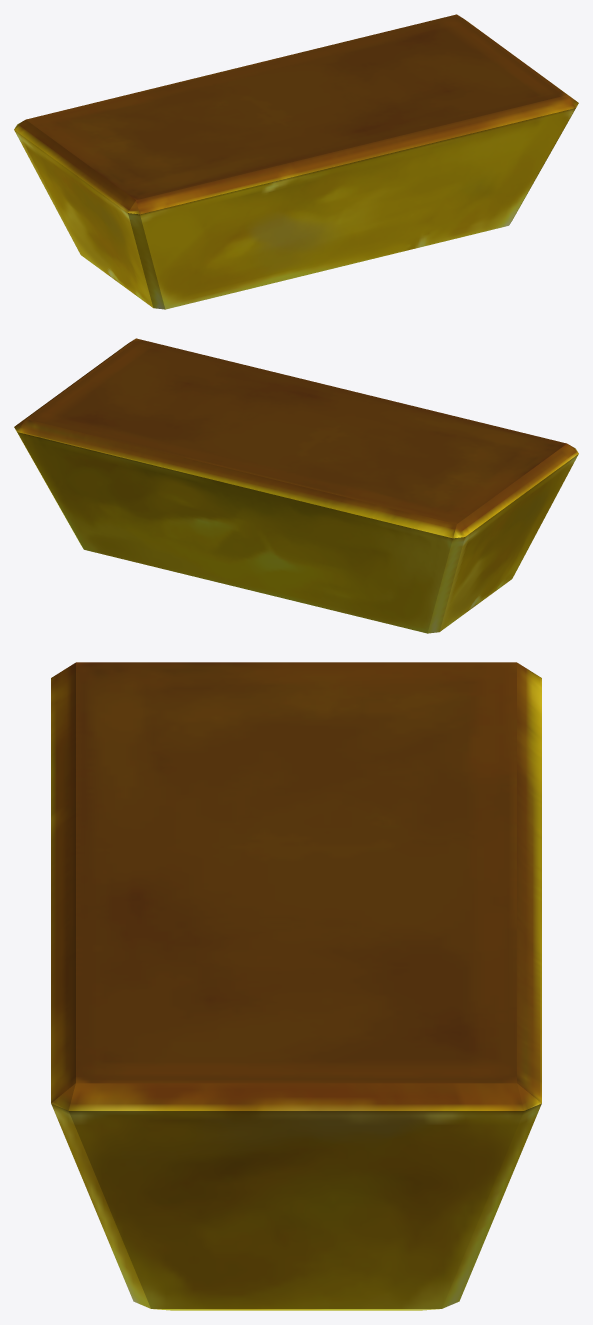
The model's file is Gold.FBX.
The picture shows the model from 3 angles, top to bottom: view 1: azimuth 30°, elevation 25°; view 2: azimuth 150°, elevation 25°; view 3: azimuth 270°, elevation 25°; orthographic projection. The views are drawn at different scales.
Visible parts, largest first — view 1: jinkuang_01; view 2: jinkuang_01; view 3: jinkuang_01.
Part boxes in pixels (<box>): jinkuang_01: <box>14,14,578,309</box>; jinkuang_01: <box>14,338,578,633</box>; jinkuang_01: <box>51,662,541,1310</box>.
Bounding box in the file's own units: 38.58 × 11.4 × 18.18.
